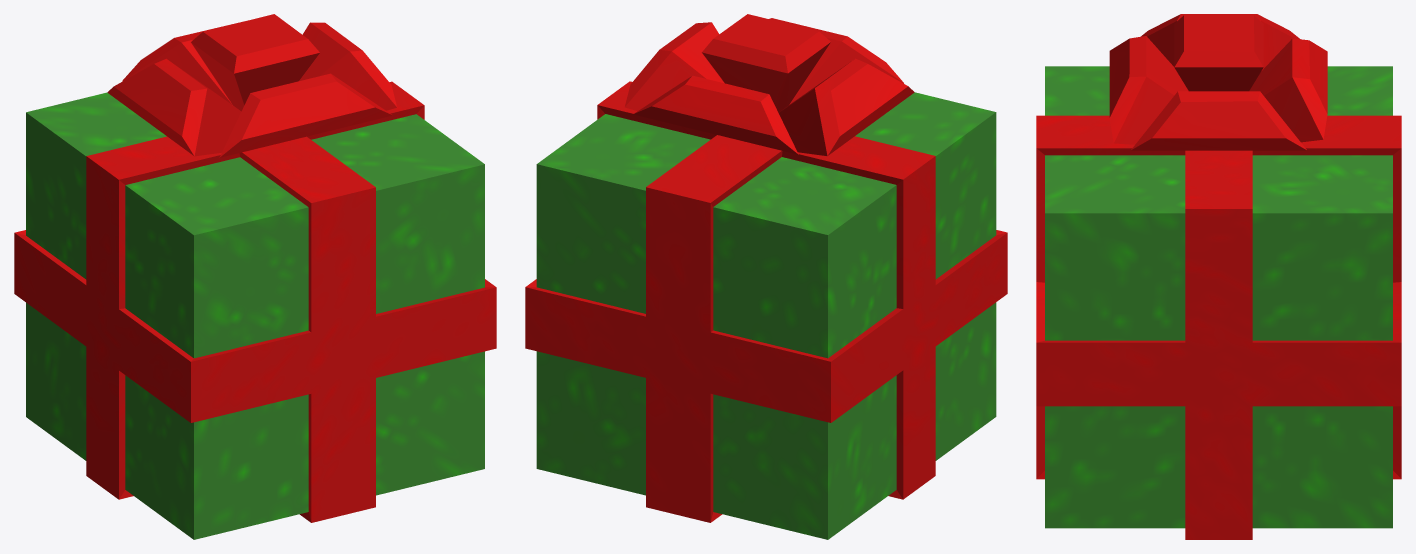
Rendered from SM_Present.fbx.
3 views of the same model, side by side, from view 1: azimuth 30°, elevation 25°; view 2: azimuth 150°, elevation 25°; view 3: azimuth 270°, elevation 25° (orthographic). The views are drawn at different scales.
Visible parts, largest first — view 1: SK_Present; view 2: SK_Present; view 3: SK_Present.
Boxes of the visible parts, x1,y1,x2,y2 form: SK_Present: (14,14,496,539); SK_Present: (525,14,1007,539); SK_Present: (1036,14,1401,539).
Bounding box in the file's own units: 50.02 × 64.94 × 50.02.
